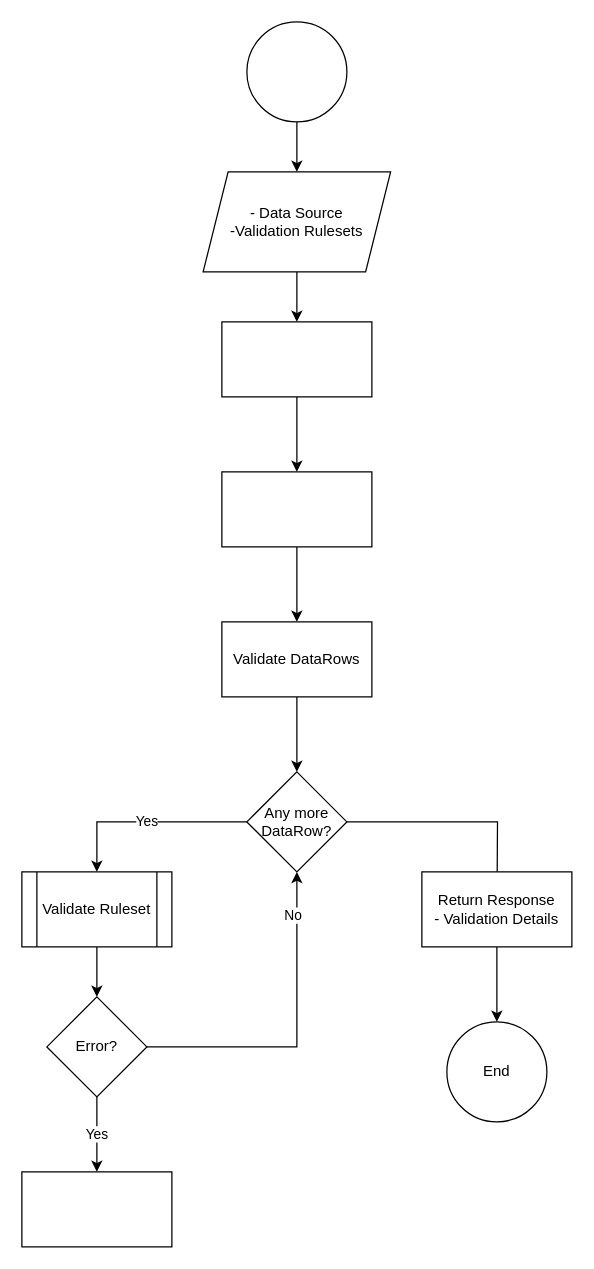
The diagram is 594 pixels wide and 1269 high, and some of its shapes have lost their labels. The centre of each missing label's shape, as x and y in pixels:
Download/Parse Source Data: point (296, 509)
Parse Rulesets: point (296, 359)
Start: point (296, 71)
Store Error: point (96, 1209)
